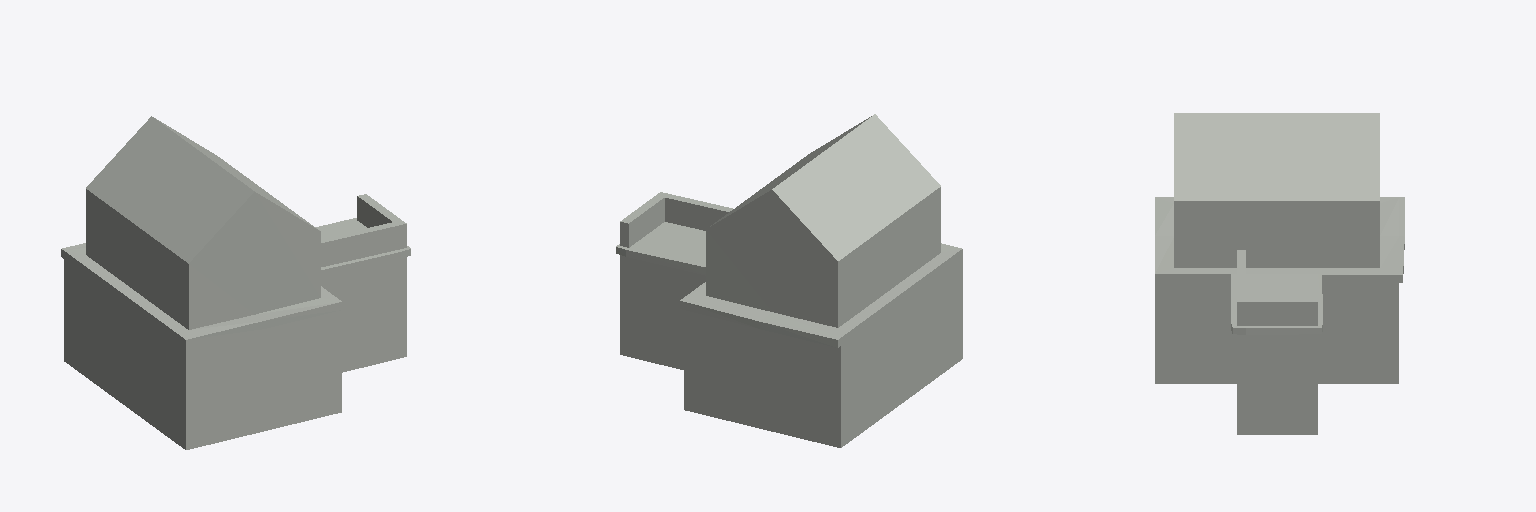
Rendered from house-main.obj.
3 views of the same model, side by side, from view 1: azimuth 30°, elevation 25°; view 2: azimuth 150°, elevation 25°; view 3: azimuth 270°, elevation 25° (orthographic).
Parts seen in each view (by area): view 1: house-main; view 2: house-main; view 3: house-main.
Part boxes in pixels (x1,y1,x2,y2): house-main: (61, 116, 410, 449); house-main: (616, 114, 962, 447); house-main: (1155, 113, 1404, 434).
Bounding box in the file's own units: 6.7 × 5.64 × 5.48.